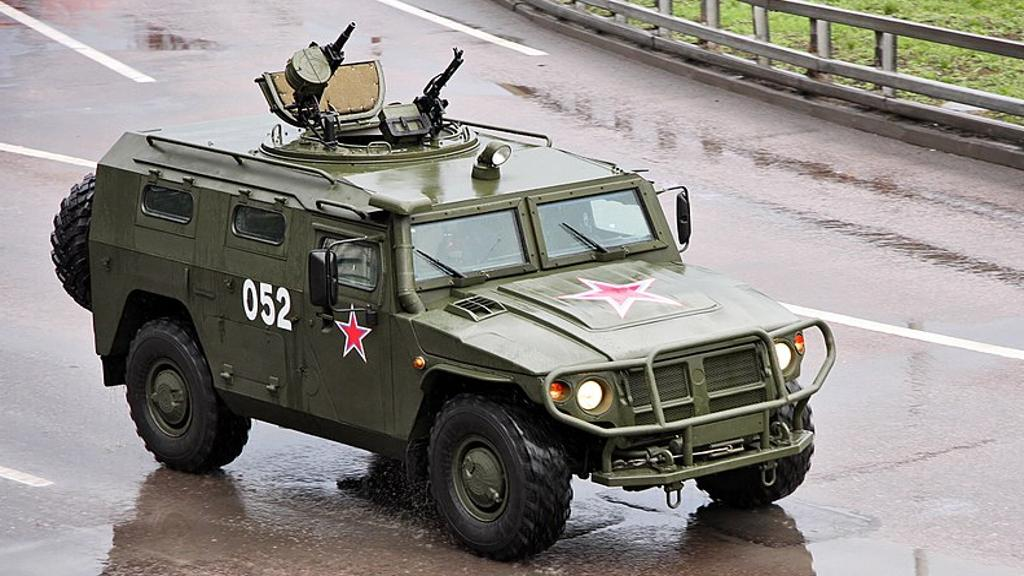CAR: (59, 66, 836, 559)
